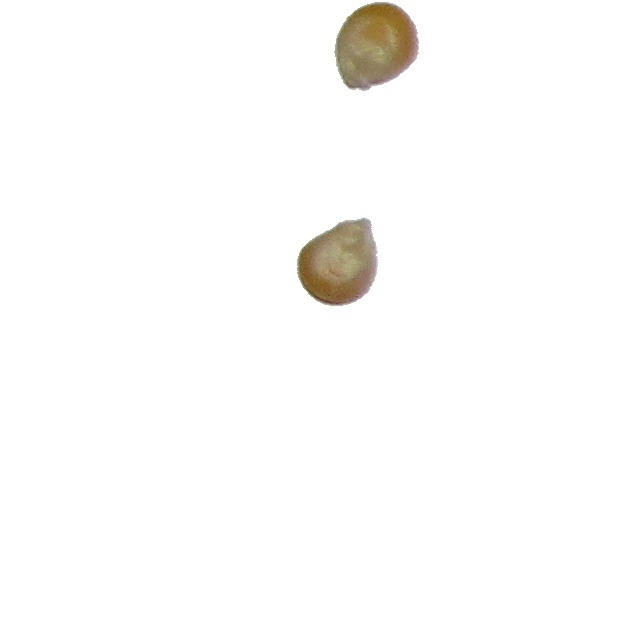mais: (333, 1, 420, 92), (296, 216, 379, 307)
